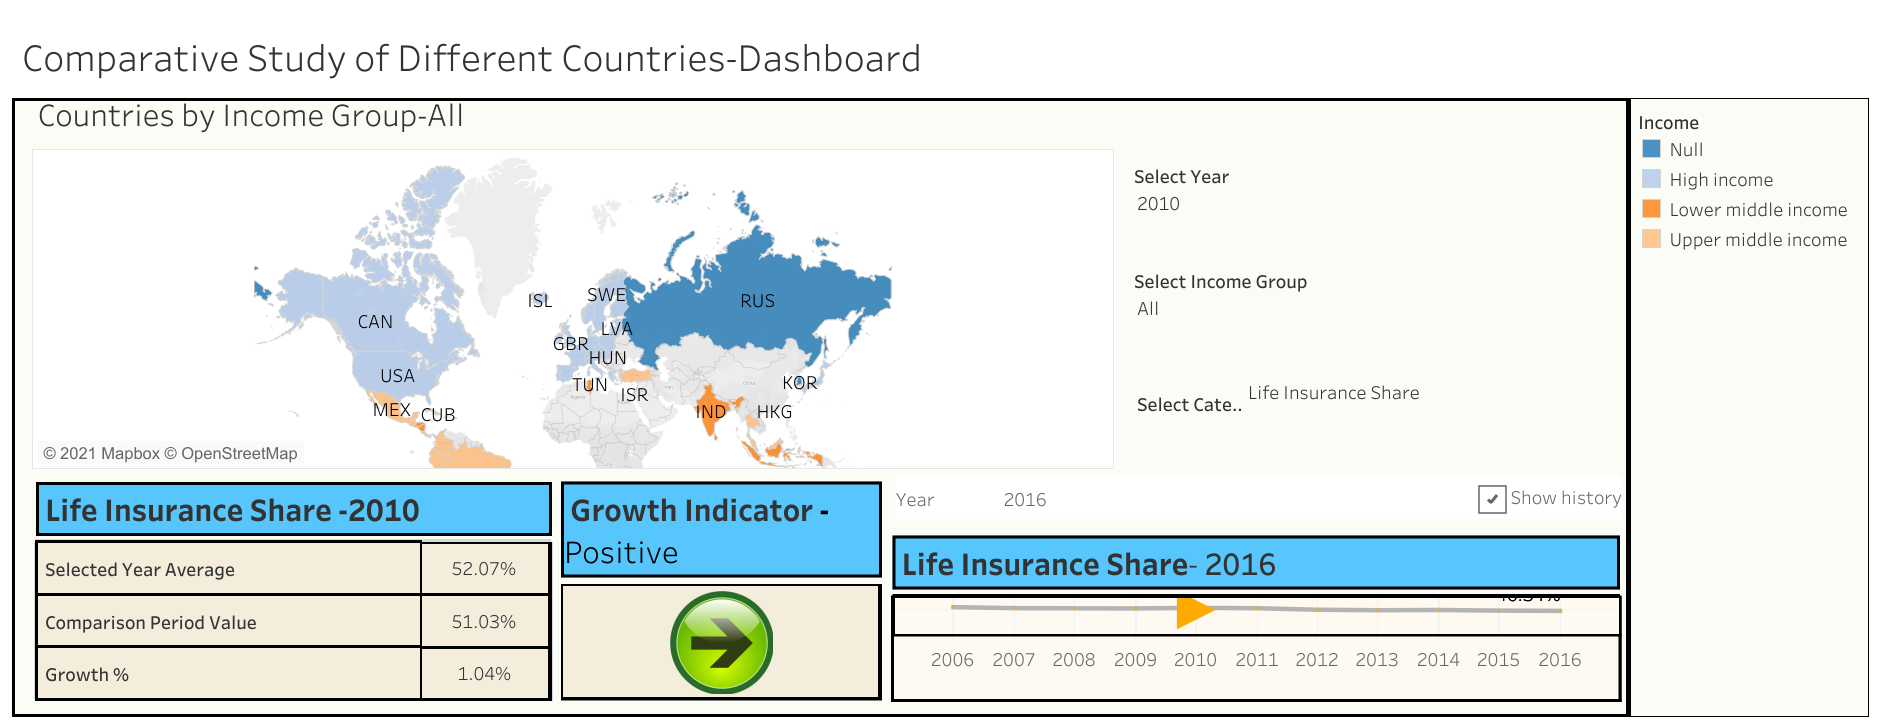

What the dashboard file says about the page in this screenshot:
{"tool":"tableau","page":{"name":"Comparative Study of Different Countries-Dashboard","canvas":[1000,1000],"units":"permille","ordinal":0},"visuals":[{"type":"title","box":[5.4,9.8,989.2,69.7]},{"type":"legend","title":"Countries by Income Group","param":"[federated.0jbwmd314qljcn18d789z0b8d3ws].[none:income:nk]","box":[887.8,80.7,106.2,163.8]},{"type":"worksheet","title":"Countries by Income Group","mark":"Multipolygon","box":[16.8,114.9,575.9,528.1]},{"type":"parameter","param":"[Parameters].[Year Parameter]","box":[602.8,220.1,246,83.1]},{"type":"filter","title":"Countries by Income Group","param":"[federated.0jbwmd314qljcn18d789z0b8d3ws].[none:income:nk]","box":[602.8,364.3,244.6,85.6]},{"type":"parameter","param":"[Parameters].[Parameter 1]","box":[604.2,518.3,244,69.7]},{"type":"currpage","title":"Average on Category by Year(Trend)","box":[475.8,651.6,386.4,59.9]},{"type":"worksheet","title":"Comparison on Selected Category","mark":"Automatic","box":[18.2,661.4,276.2,302]},{"type":"worksheet","title":"Growth Indicator","mark":"Shape","cols":["Calculation_552535425886822406"],"box":[297.7,661.4,172,302]},{"type":"worksheet","title":"Average on Category by Year(Trend)","mark":"Shape","rows":["Calculation_552535425665921025","vtavg"],"cols":["Year"],"box":[473.8,734.7,388.4,227.4]}]}

Visuals, with their boxes on the dashboard's canvas, which has no fixed pixel size, in thousandths of its width and height (x1, y1, x2, y2). These are canvas units, not pixel positions in the 1880x728 screenshot, which may show the page scaled, cropped or inside an application window:
title: {"left": 5, "top": 10, "right": 995, "bottom": 80}
"Countries by Income Group" legend: {"left": 888, "top": 81, "right": 994, "bottom": 244}
"Countries by Income Group" worksheet (Multipolygon marks): {"left": 17, "top": 115, "right": 593, "bottom": 643}
parameter: {"left": 603, "top": 220, "right": 849, "bottom": 303}
"Countries by Income Group" filter: {"left": 603, "top": 364, "right": 847, "bottom": 450}
parameter: {"left": 604, "top": 518, "right": 848, "bottom": 588}
"Average on Category by Year(Trend)" currpage: {"left": 476, "top": 652, "right": 862, "bottom": 712}
"Comparison on Selected Category" worksheet: {"left": 18, "top": 661, "right": 294, "bottom": 963}
"Growth Indicator" worksheet (Shape marks): {"left": 298, "top": 661, "right": 470, "bottom": 963}
"Average on Category by Year(Trend)" worksheet (Shape marks): {"left": 474, "top": 735, "right": 862, "bottom": 962}
